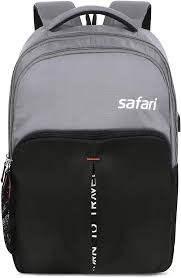backpack: (0, 0, 180, 274)
